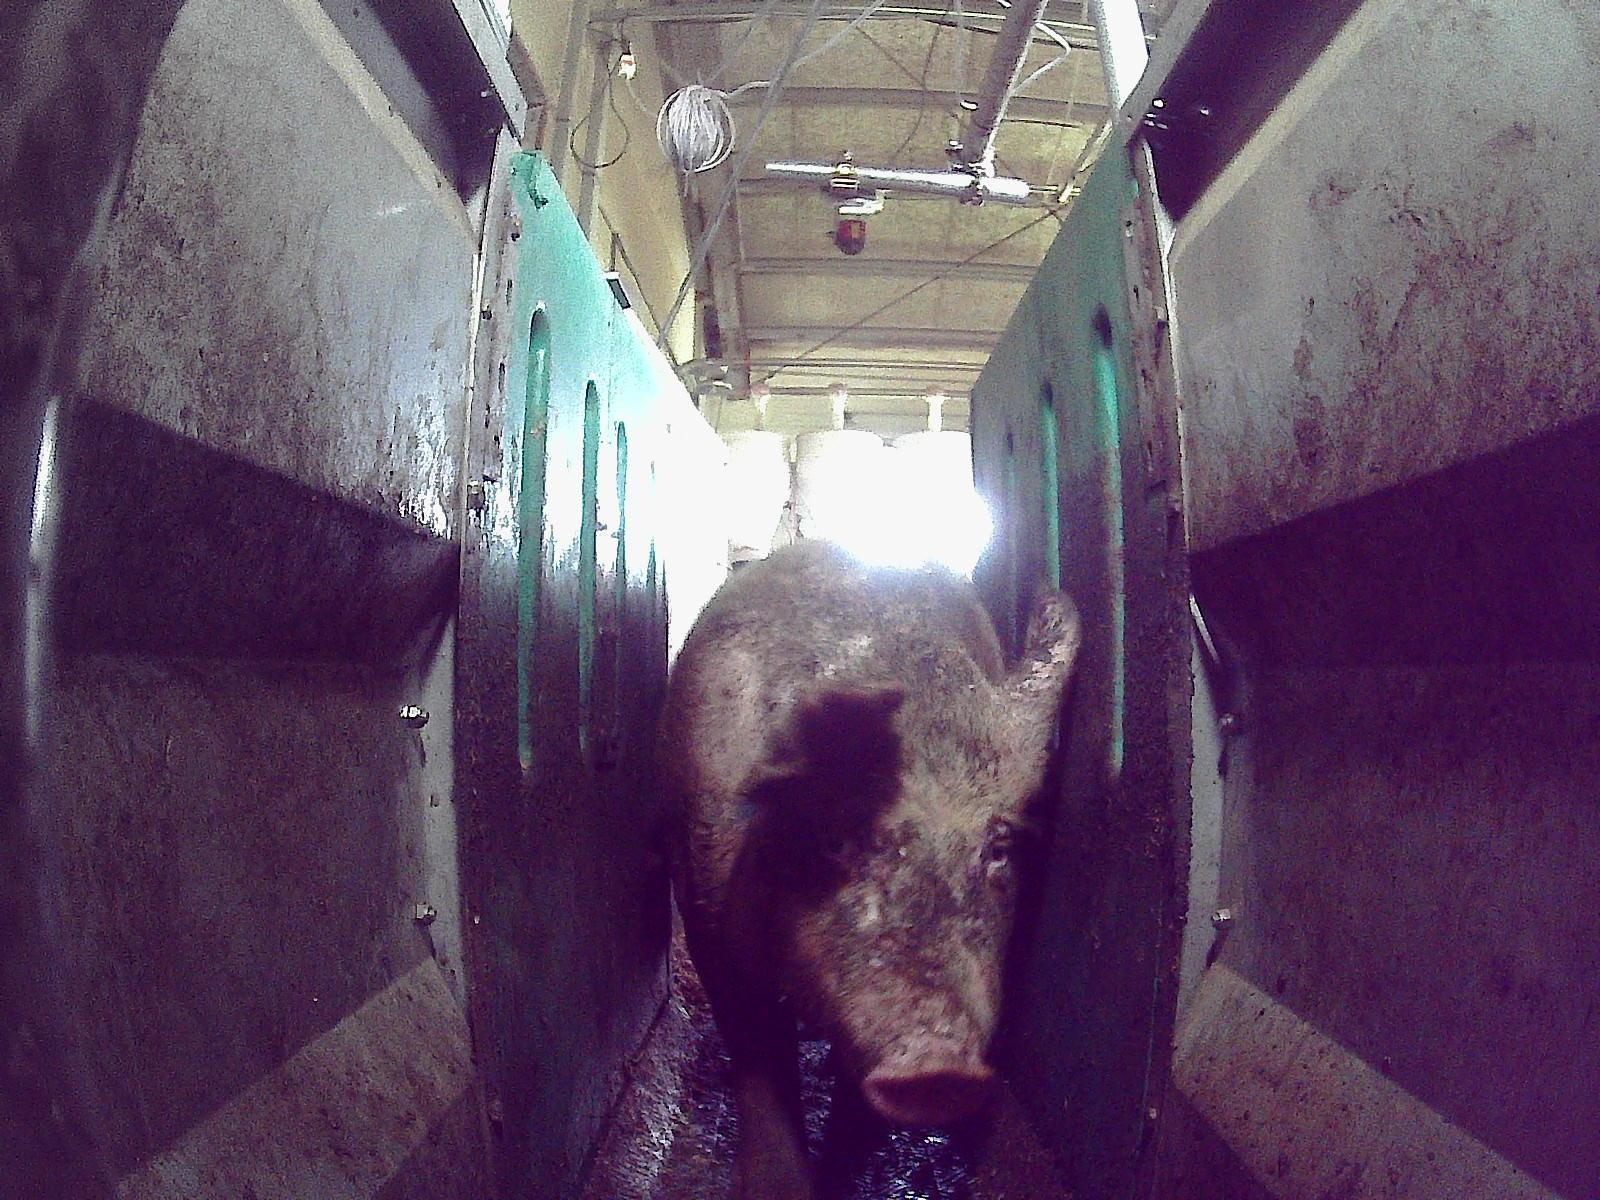Face: (781, 733, 1037, 1127)
